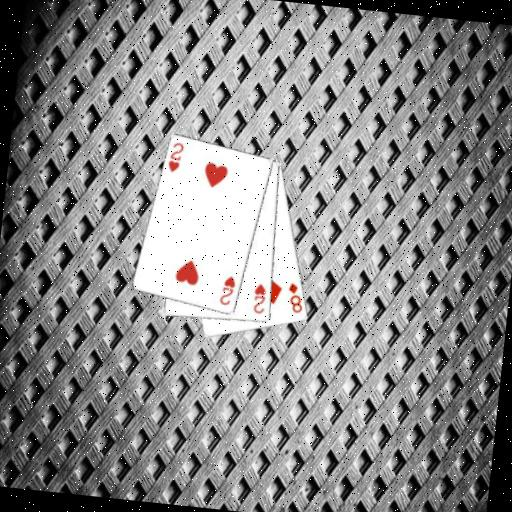2H: (217, 272, 238, 308), (165, 139, 186, 175), (249, 280, 268, 316)
8D: (283, 280, 307, 316)
